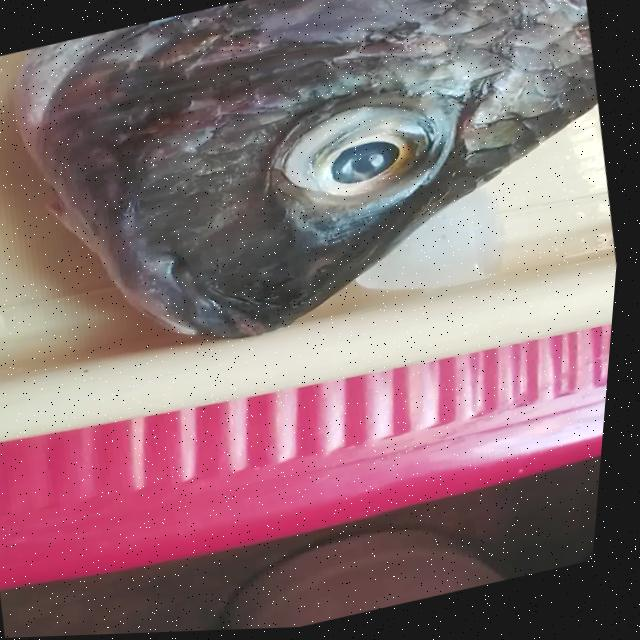Fresh: (263, 85, 473, 228)
